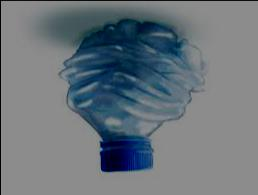Plastic: (54, 16, 215, 180)
